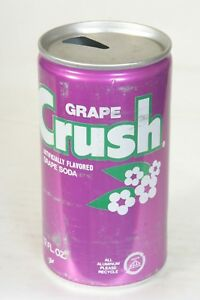can: (37, 19, 173, 287)
